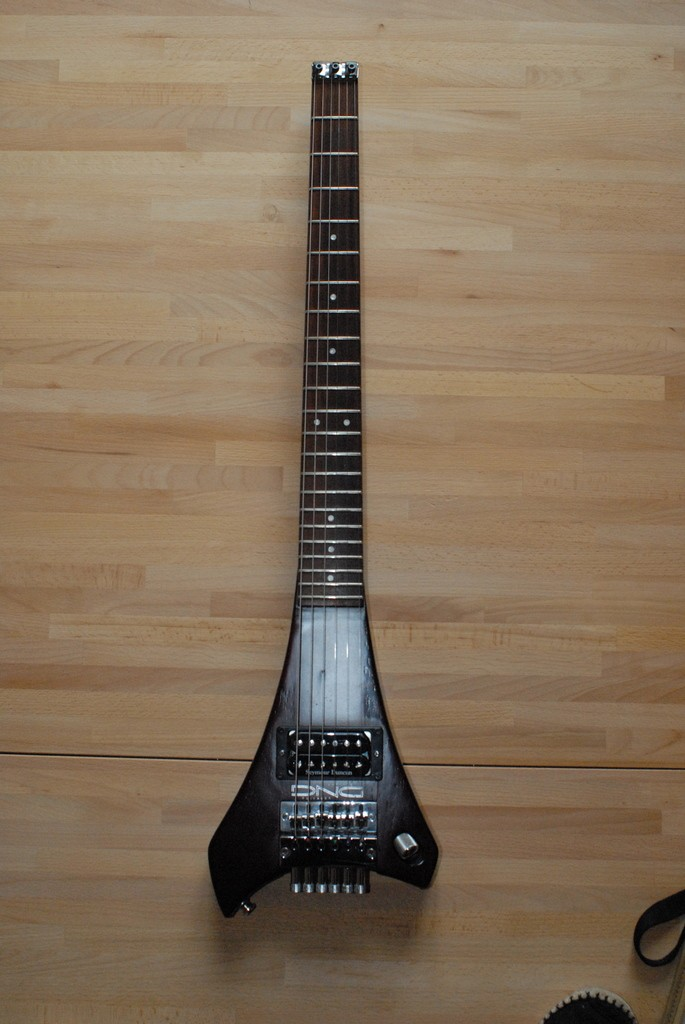guitar: (206, 62, 439, 918)
